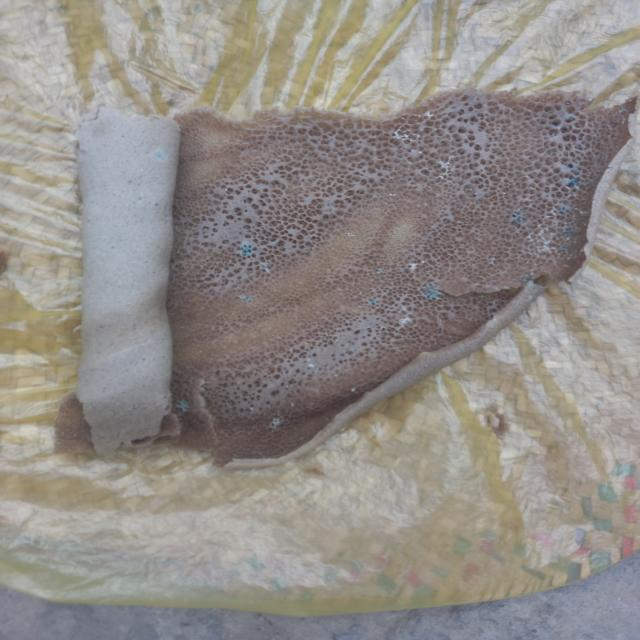injera_mold: (527, 214, 558, 254), (435, 155, 457, 181), (417, 280, 443, 300), (393, 127, 423, 142), (265, 414, 285, 432), (236, 242, 256, 258), (509, 209, 527, 226), (396, 316, 414, 330), (406, 260, 425, 270), (176, 400, 190, 413), (557, 202, 575, 212), (258, 262, 271, 274), (567, 177, 580, 188), (561, 227, 575, 235), (422, 110, 433, 120), (153, 151, 165, 160), (240, 294, 253, 302), (566, 161, 576, 170), (559, 247, 570, 255), (368, 297, 378, 305), (551, 120, 561, 128), (566, 114, 577, 121), (488, 258, 496, 266), (346, 232, 355, 238), (377, 268, 385, 274), (620, 118, 627, 124), (350, 387, 356, 393), (616, 110, 628, 113), (402, 305, 407, 311), (308, 364, 314, 368), (250, 407, 254, 411)
